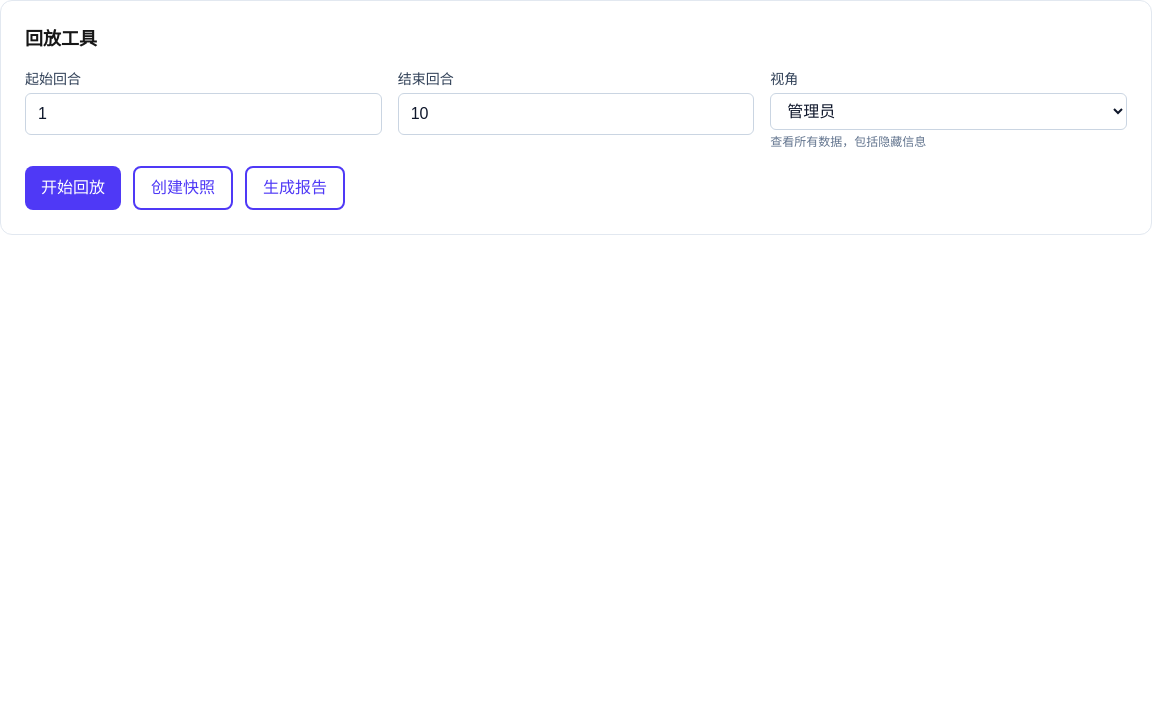
Test: ReplayControls › displays replay results after successful replay
This screenshot has width=1152, height=720.
What coordinates should you click on to do the following:
click the button "开始回放"
I would click on:
 (73, 188)
Its box is [25,166,121,210].
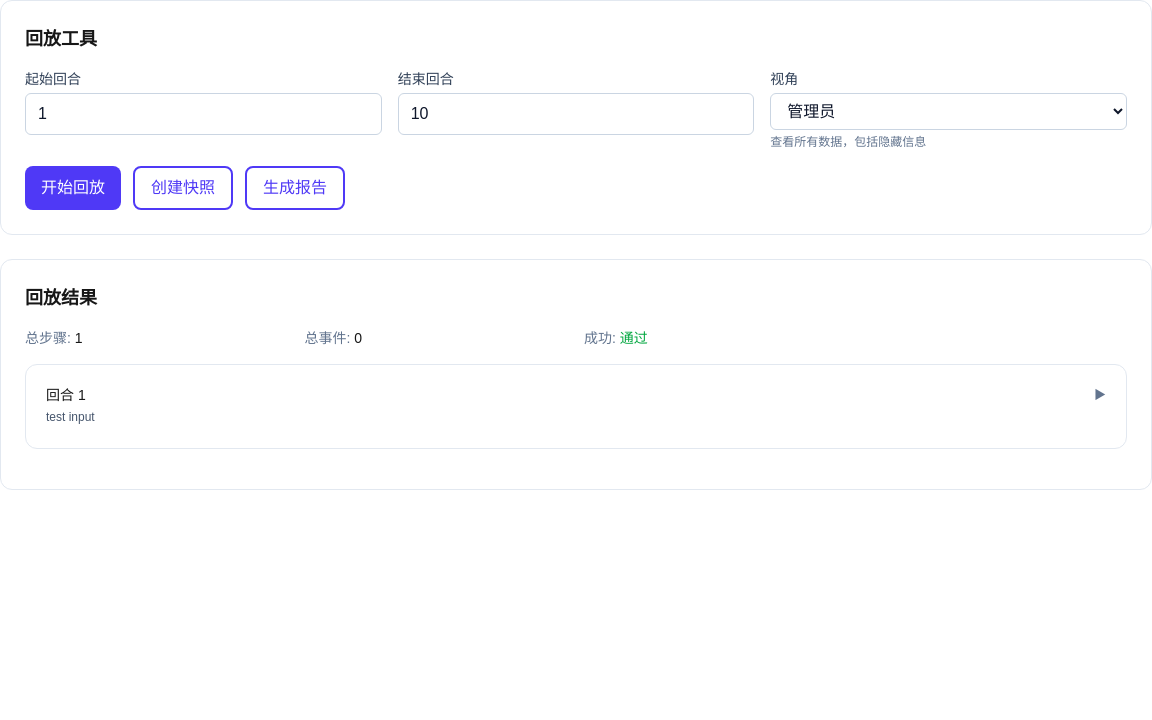
Result: the heading "回放结果" is shown at [25,288,97,308]
Result: the heading "回合 1" is shown at [46,385,86,405]
